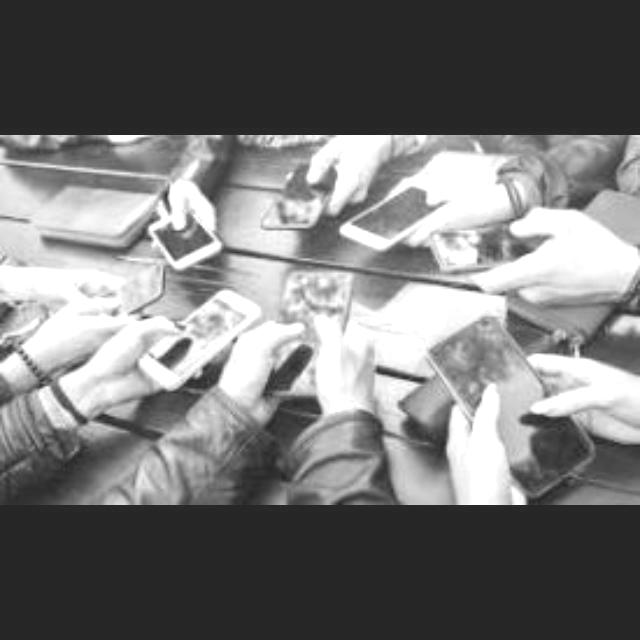fake: (398, 317, 615, 502), (334, 168, 488, 270), (130, 292, 266, 388), (276, 248, 352, 418), (246, 146, 354, 250), (48, 251, 176, 335), (124, 192, 240, 276)
